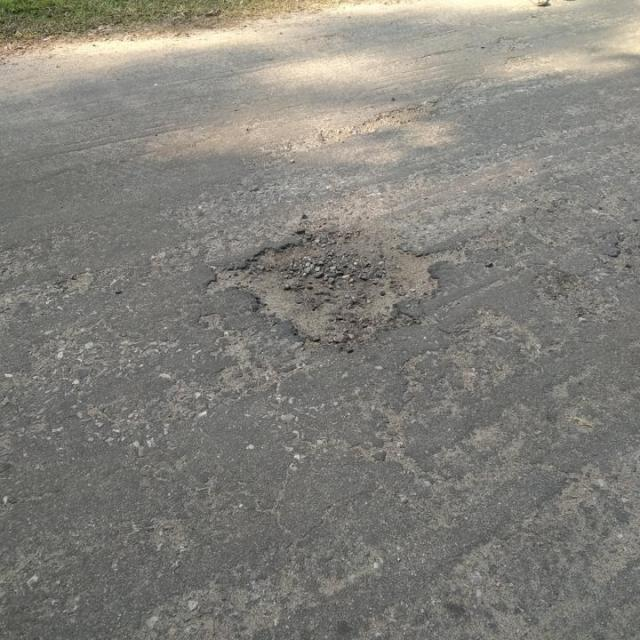pothole: (202, 224, 470, 347)
